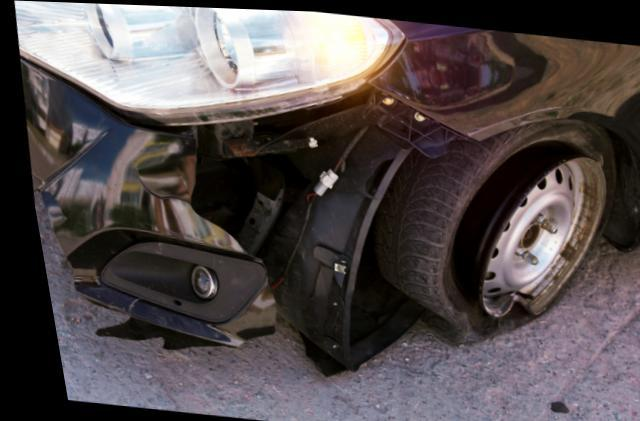no part: (18, 56, 464, 360)
tire flat: (360, 114, 609, 343)
